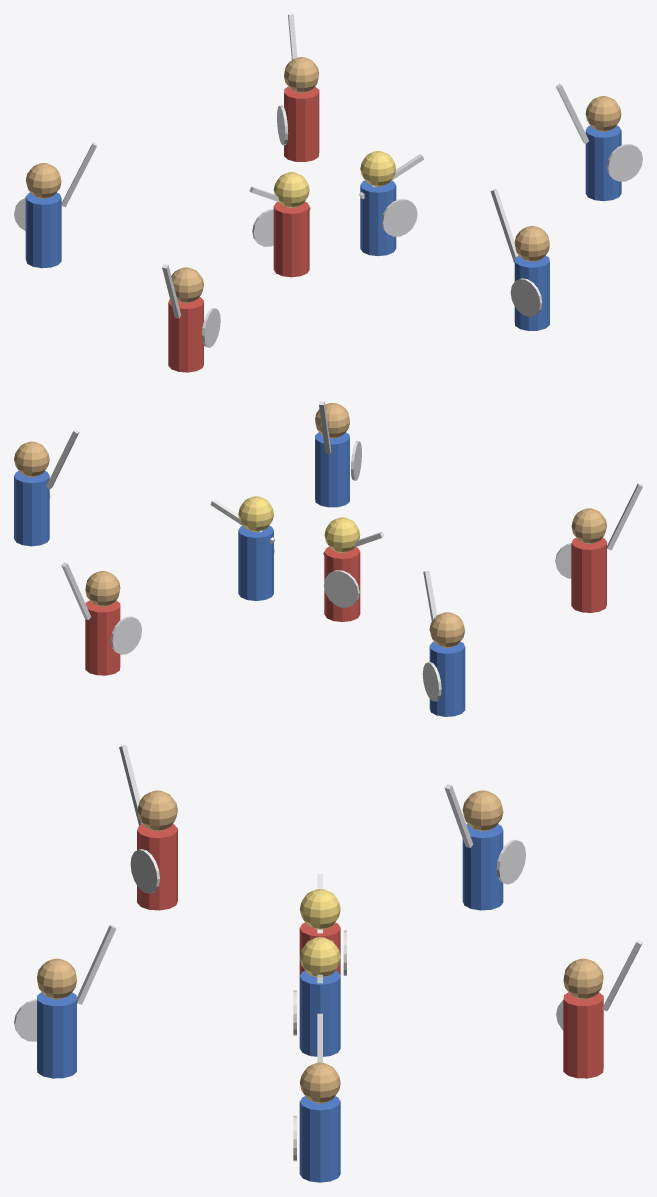
The model's file is gladiators.glb.
3 views of the same model, one above another, from view 1: azimuth 30°, elevation 25°; view 2: azimuth 150°, elevation 25°; view 3: azimuth 270°, elevation 25° (orthographic). The views are drawn at different scales.
Visible parts, largest first — view 1: duel_0_body, runner_2_body, runner_1_body, runner_3_body, runner_0_body, duel_1_body, runner_4_body, duel_1_shield, runner_0_shield, runner_4_head, runner_0_head, runner_1_head (+8 smaller); view 2: runner_3_body, runner_0_body, duel_1_body, runner_4_body, runner_1_body, runner_2_body, duel_0_body, duel_0_shield, runner_1_head, runner_3_head, runner_0_head, runner_2_head (+7 smaller); view 3: runner_0_body, runner_1_body, runner_4_body, duel_1_body, runner_2_body, runner_3_body, runner_1_head, runner_3_head, runner_4_head, runner_2_head, runner_0_head, duel_0_head (+6 smaller).
Boxes of the visible parts, x1=… form: duel_0_body: x1=273, y1=201, x2=309, y2=277; runner_2_body: x1=25, y1=192, x2=61, y2=268; runner_1_body: x1=284, y1=86, x2=319, y2=161; runner_3_body: x1=168, y1=297, x2=203, y2=372; runner_0_body: x1=585, y1=125, x2=621, y2=201; duel_1_body: x1=360, y1=180, x2=396, y2=256; runner_4_body: x1=514, y1=255, x2=549, y2=330; duel_1_shield: x1=381, y1=199, x2=417, y2=236; runner_0_shield: x1=607, y1=144, x2=642, y2=181; runner_4_head: x1=514, y1=226, x2=549, y2=261; runner_0_head: x1=585, y1=96, x2=621, y2=131; runner_1_head: x1=284, y1=57, x2=318, y2=92; runner_3_body: x1=571, y1=537, x2=606, y2=612; runner_0_body: x1=14, y1=471, x2=49, y2=546; duel_1_body: x1=238, y1=525, x2=273, y2=600; runner_4_body: x1=315, y1=432, x2=349, y2=507; runner_1_body: x1=85, y1=600, x2=120, y2=675; runner_2_body: x1=429, y1=641, x2=465, y2=716; duel_0_body: x1=324, y1=546, x2=360, y2=621; duel_0_shield: x1=324, y1=570, x2=359, y2=607; runner_1_head: x1=85, y1=571, x2=120, y2=606; runner_3_head: x1=571, y1=508, x2=606, y2=543; runner_0_head: x1=14, y1=441, x2=49, y2=477; runner_2_head: x1=429, y1=612, x2=464, y2=647; runner_0_body: x1=299, y1=1096, x2=340, y2=1182; runner_1_body: x1=563, y1=992, x2=603, y2=1078; runner_4_body: x1=37, y1=992, x2=76, y2=1078; duel_1_body: x1=299, y1=970, x2=340, y2=1056; runner_2_body: x1=462, y1=824, x2=503, y2=910; runner_3_body: x1=137, y1=824, x2=177, y2=910; runner_1_head: x1=563, y1=958, x2=603, y2=999; runner_3_head: x1=137, y1=790, x2=177, y2=831; runner_4_head: x1=37, y1=958, x2=76, y2=999; runner_2_head: x1=462, y1=790, x2=503, y2=831; runner_0_head: x1=300, y1=1062, x2=340, y2=1103; duel_0_head: x1=299, y1=889, x2=340, y2=929.
Bounding box in the file's own units: 0.0407 × 0.00838 × 0.035.
